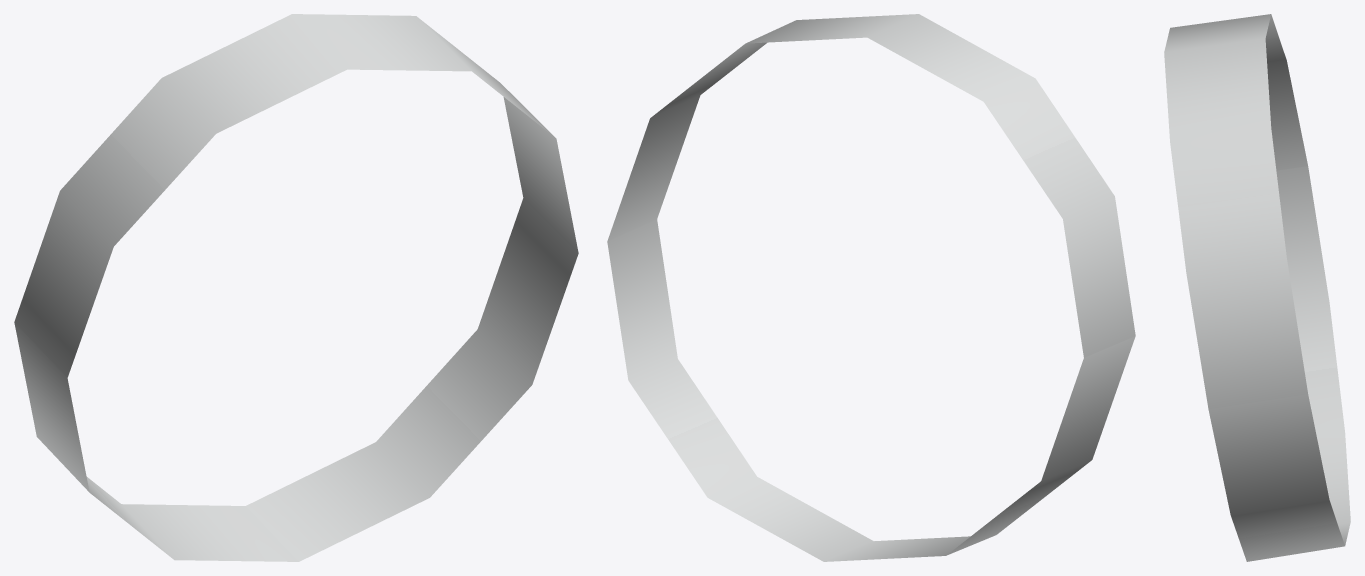
File: luminairearm_caltrans10ft_c4.obj
3 renders of one model, left to right at view 1: azimuth 30°, elevation 25°; view 2: azimuth 150°, elevation 25°; view 3: azimuth 270°, elevation 25°, orthographic. The views are drawn at different scales.
Visible parts, largest first — view 1: luminairearm_caltrans10ft_c4; view 2: luminairearm_caltrans10ft_c4; view 3: luminairearm_caltrans10ft_c4.
Part boxes in pixels (x1,y1,x2,y2): luminairearm_caltrans10ft_c4: (14,14,578,561); luminairearm_caltrans10ft_c4: (607,14,1135,561); luminairearm_caltrans10ft_c4: (1164,14,1350,561).
Bounding box in the file's own units: 0.1977 × 0.2006 × 0.0681.
